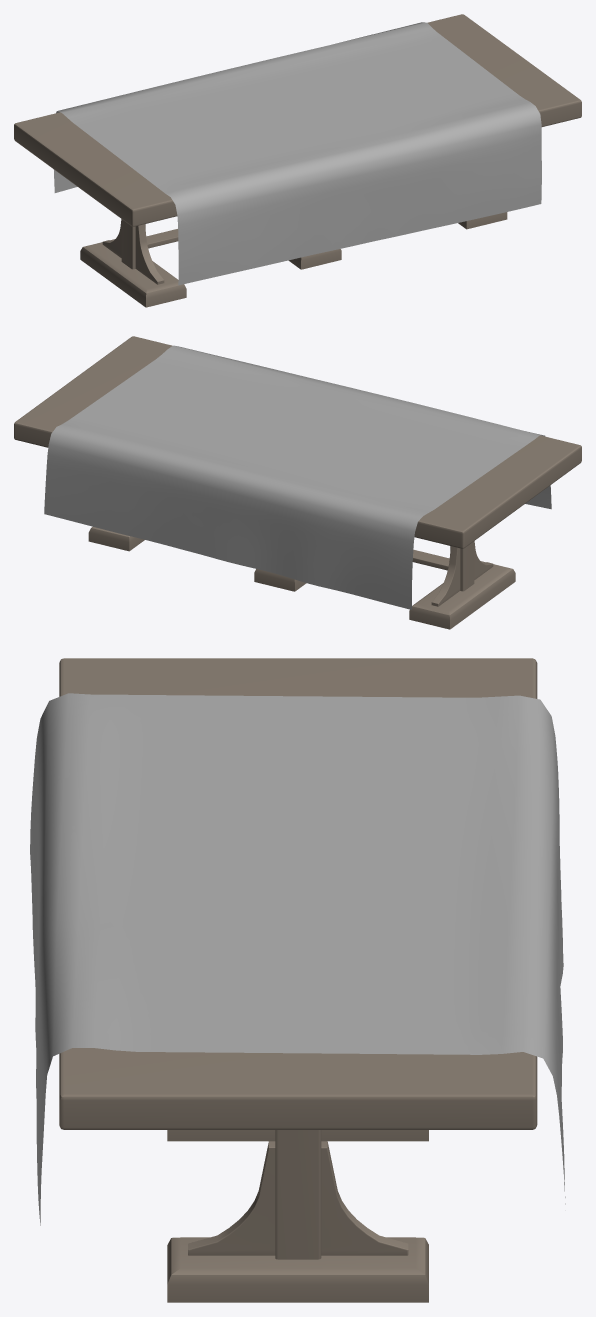
The model's file is mainRoom_table.fbx.
3 views of the same model, one above another, from view 1: azimuth 30°, elevation 25°; view 2: azimuth 150°, elevation 25°; view 3: azimuth 270°, elevation 25° (orthographic). The views are drawn at different scales.
Parts seen in each view (by area): view 1: table; view 2: table; view 3: table.
Part boxes in pixels (bbox=[...]): table: bbox=[14, 14, 581, 307]; table: bbox=[14, 336, 581, 629]; table: bbox=[30, 658, 565, 1302].
Size of the model in its own units: 63.85 by 17.58 by 32.89.
